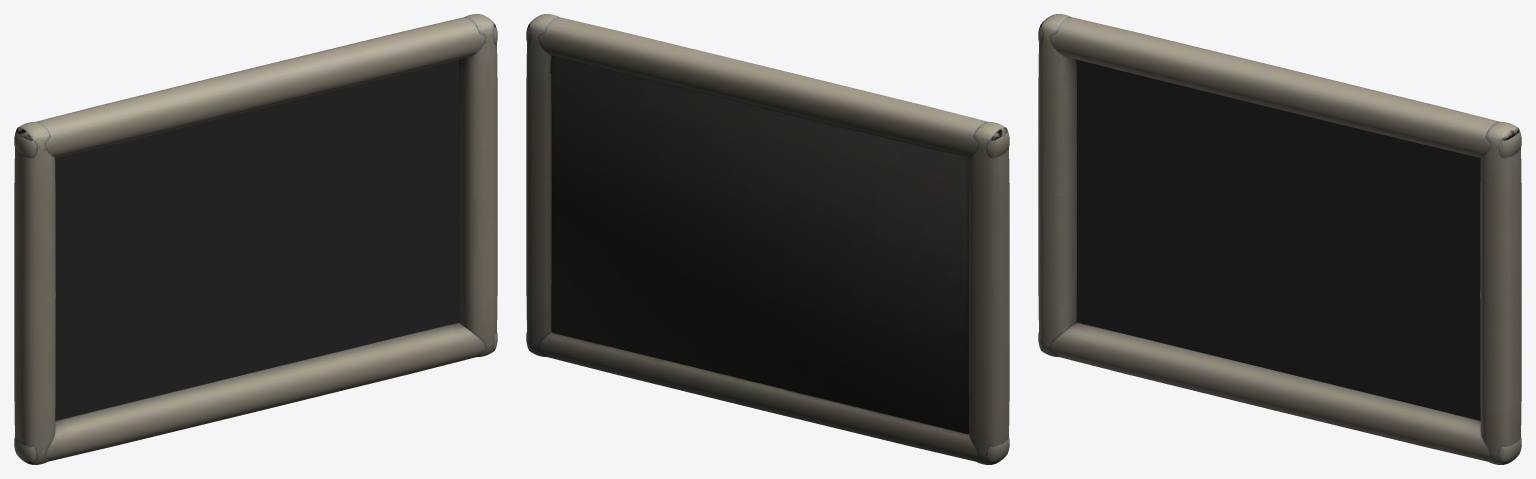
The model's file is frame.glb.
3 renders of one model, left to right at view 1: azimuth 30°, elevation 25°; view 2: azimuth 150°, elevation 25°; view 3: azimuth 330°, elevation 25°, orthographic.
Visible parts, largest first — view 1: Screen_mesh, Border_mesh; view 2: Border_mesh; view 3: Screen_mesh, Border_mesh.
Boxes of the visible parts, box(x1,y1,x2,y2) form: Screen_mesh: box(55, 59, 458, 420); Border_mesh: box(14, 14, 497, 464); Border_mesh: box(526, 14, 1009, 464); Screen_mesh: box(1077, 59, 1480, 420); Border_mesh: box(1038, 14, 1521, 464).
Size of the model in its own units: 1.86 by 1.26 by 0.1389.
2 materials, 1 textured.
